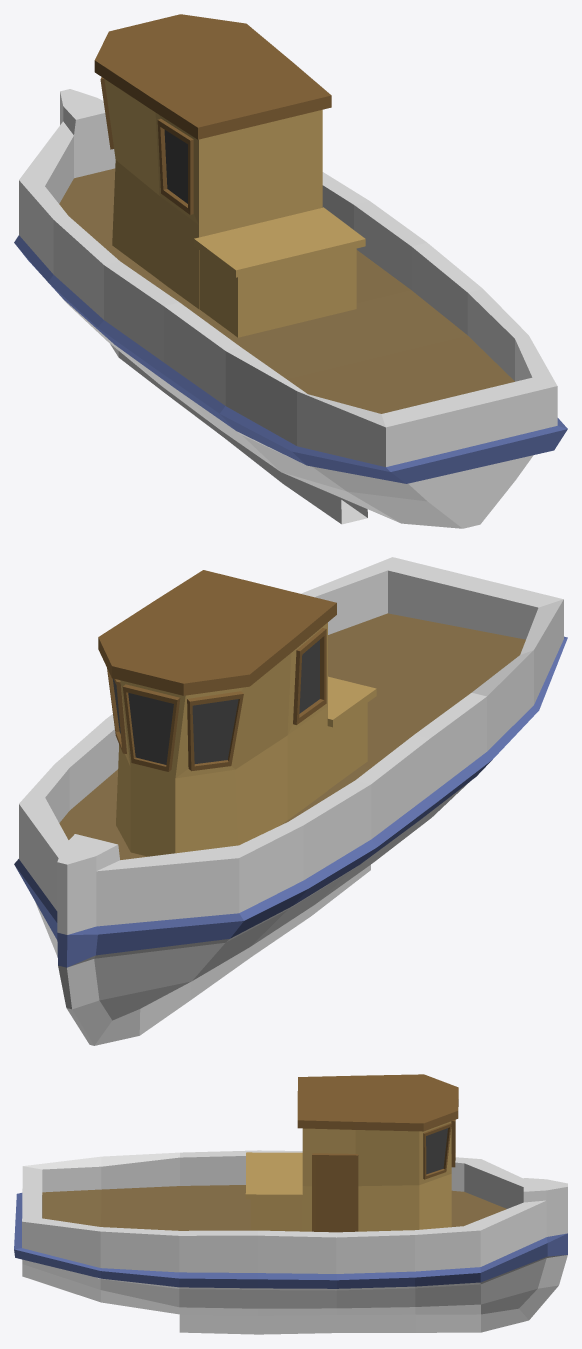
The model's file is barco.fbx.
3 views of the same model, one above another, from view 1: azimuth 30°, elevation 25°; view 2: azimuth 150°, elevation 25°; view 3: azimuth 270°, elevation 25° (orthographic). The views are drawn at different scales.
Visible parts, largest first — view 1: Cube.023; view 2: Cube.023; view 3: Cube.023.
Part boxes in pixels (x1,y1,x2,y2): Cube.023: [14, 14, 567, 528]; Cube.023: [14, 557, 567, 1045]; Cube.023: [14, 1074, 567, 1334].
Size of the model in its own units: 2859 by 1096 by 1315.
